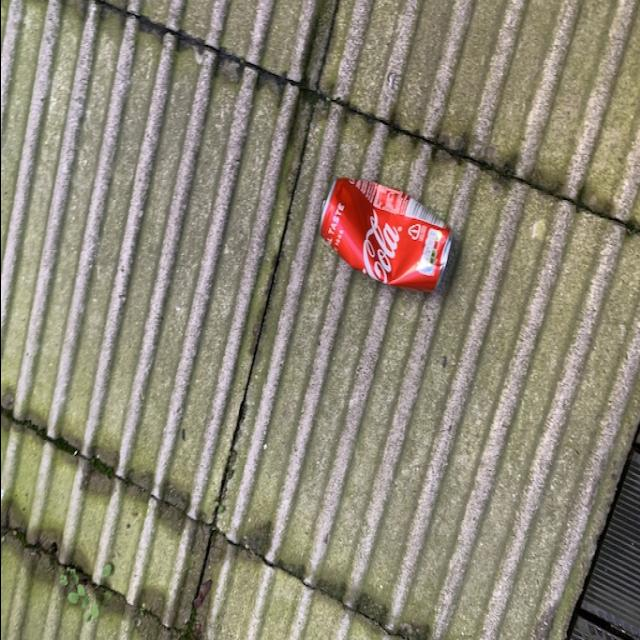litter: (317, 169, 450, 295)
